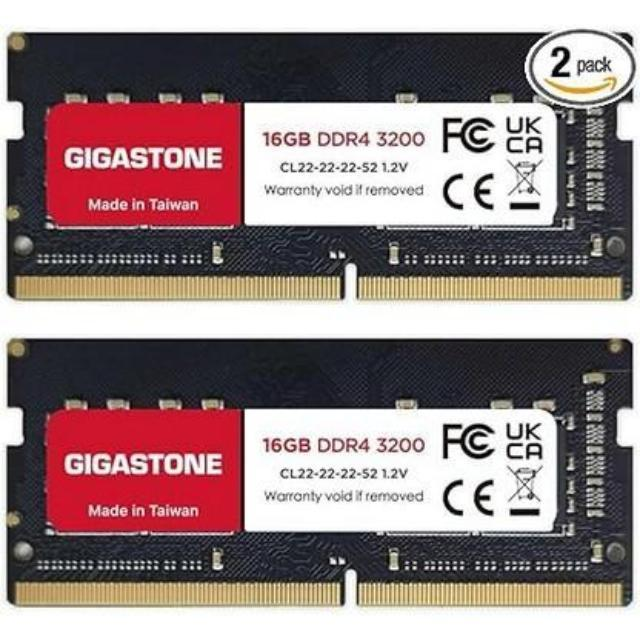RAM: (4, 27, 636, 313), (1, 336, 632, 612)
